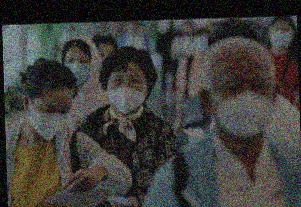with_mask: (210, 73, 274, 139), (26, 103, 73, 142), (106, 71, 147, 115), (63, 53, 91, 86), (266, 22, 293, 50)
